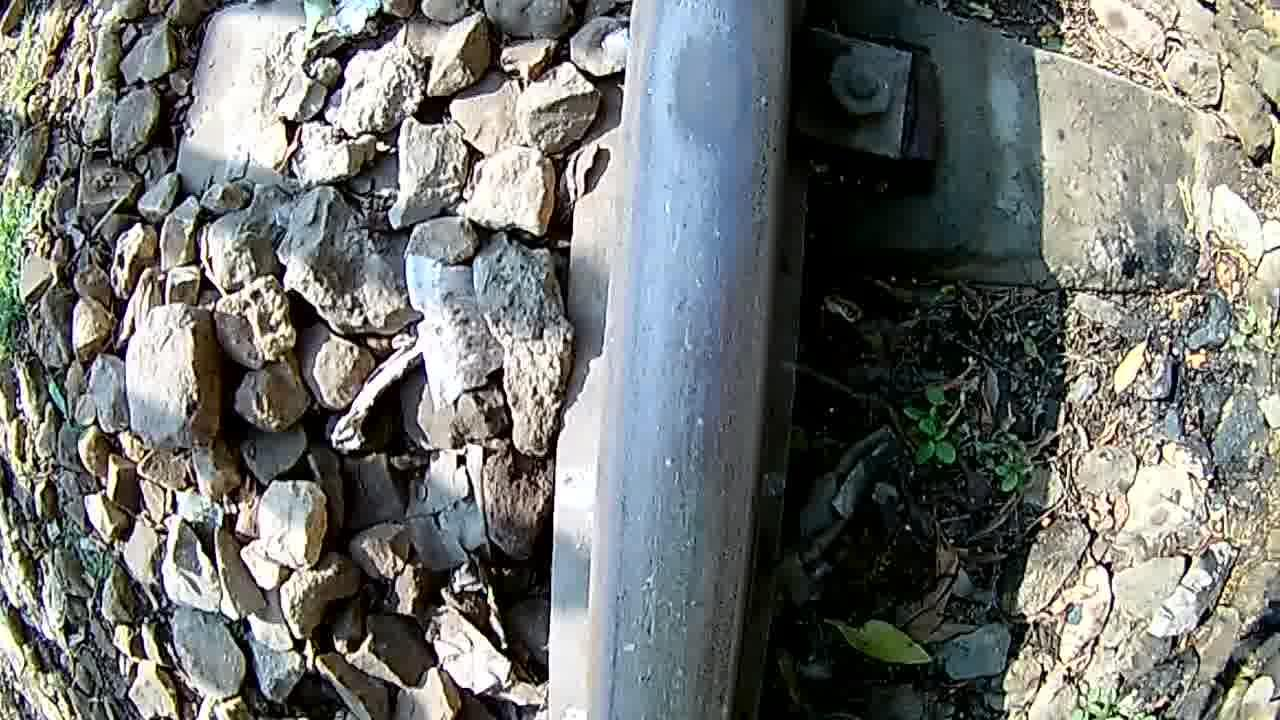bolt_missing: (640, 0, 788, 174)
